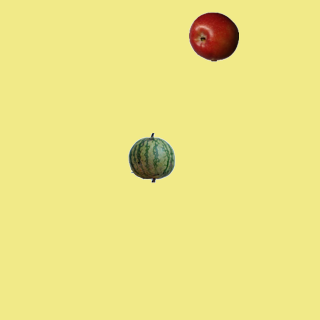Apple Braeburn: (188, 11, 238, 61)
Watermelon: (126, 132, 176, 182)
